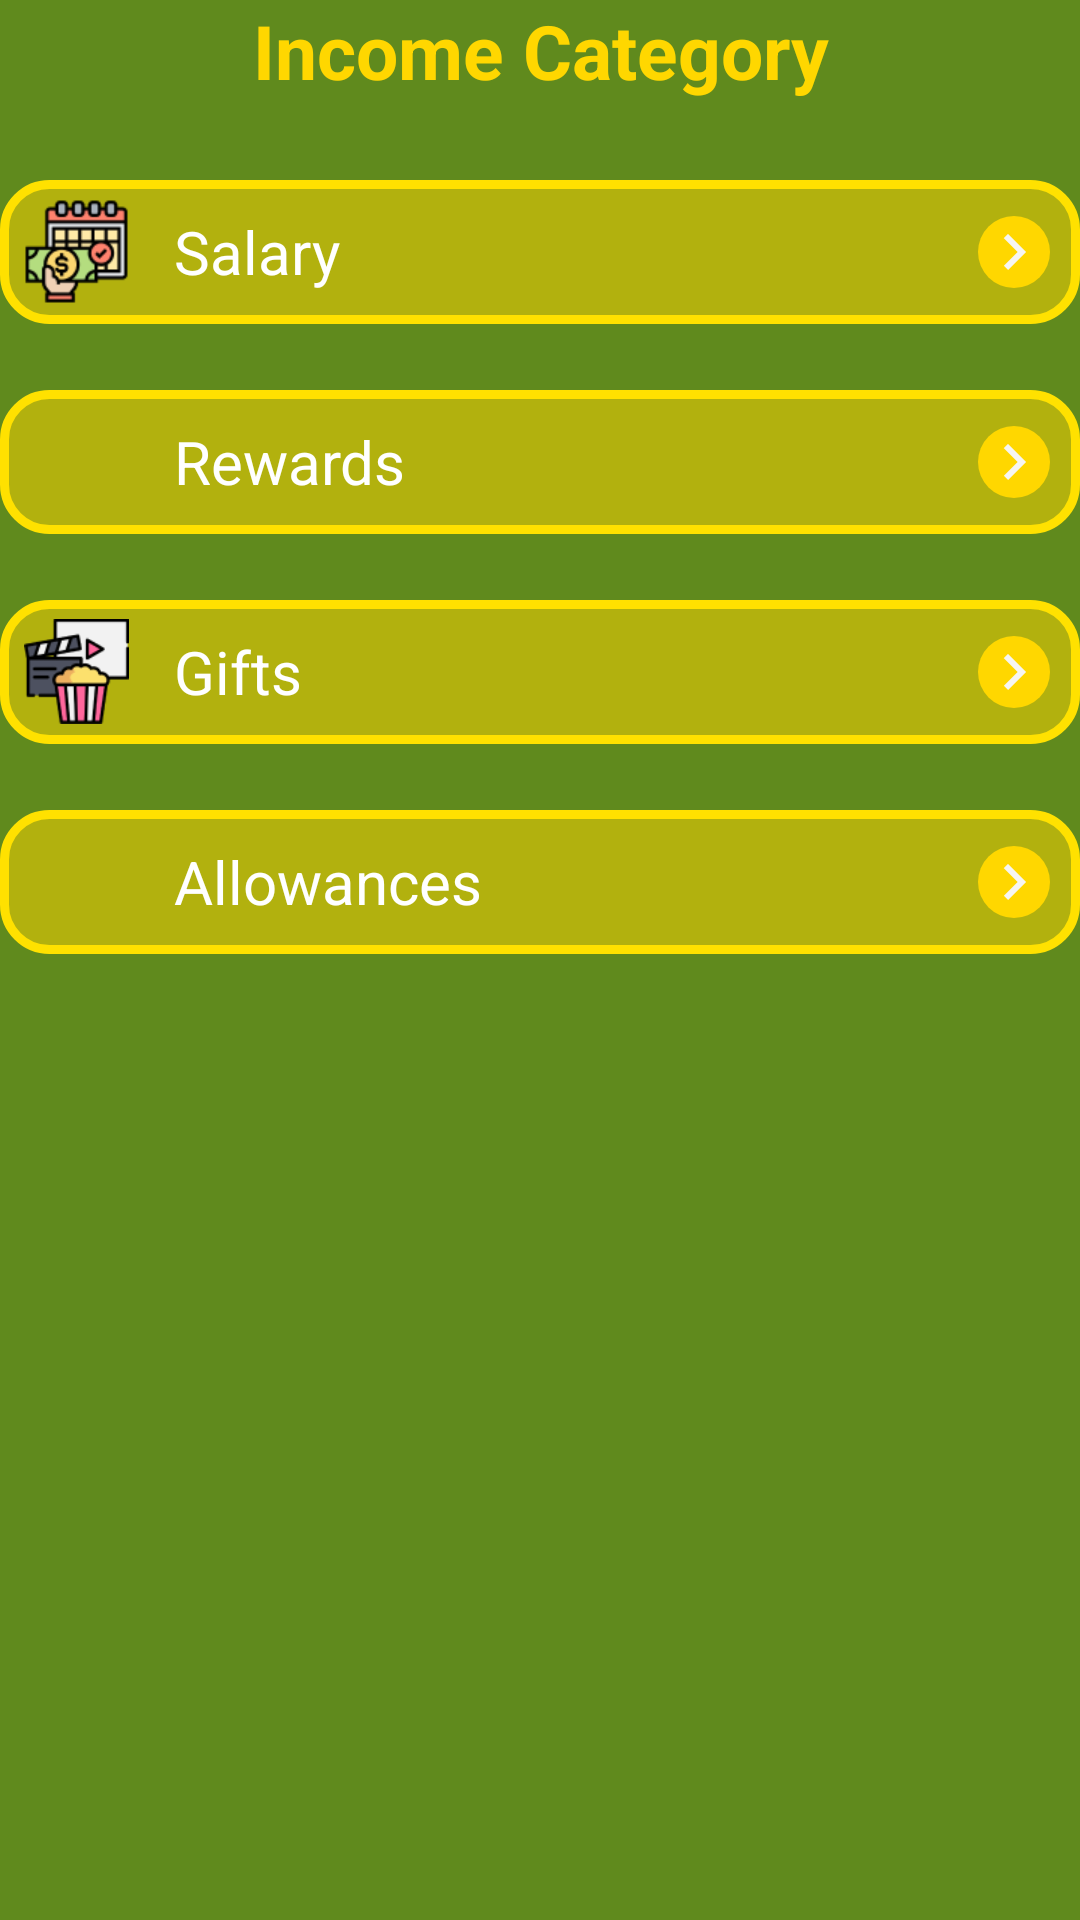

Named icons in this screenshot (1080 × 1920) and their centers, [x,y]:
arrow right: [1014,252], [1014,462], [1014,672], [1014,882]
